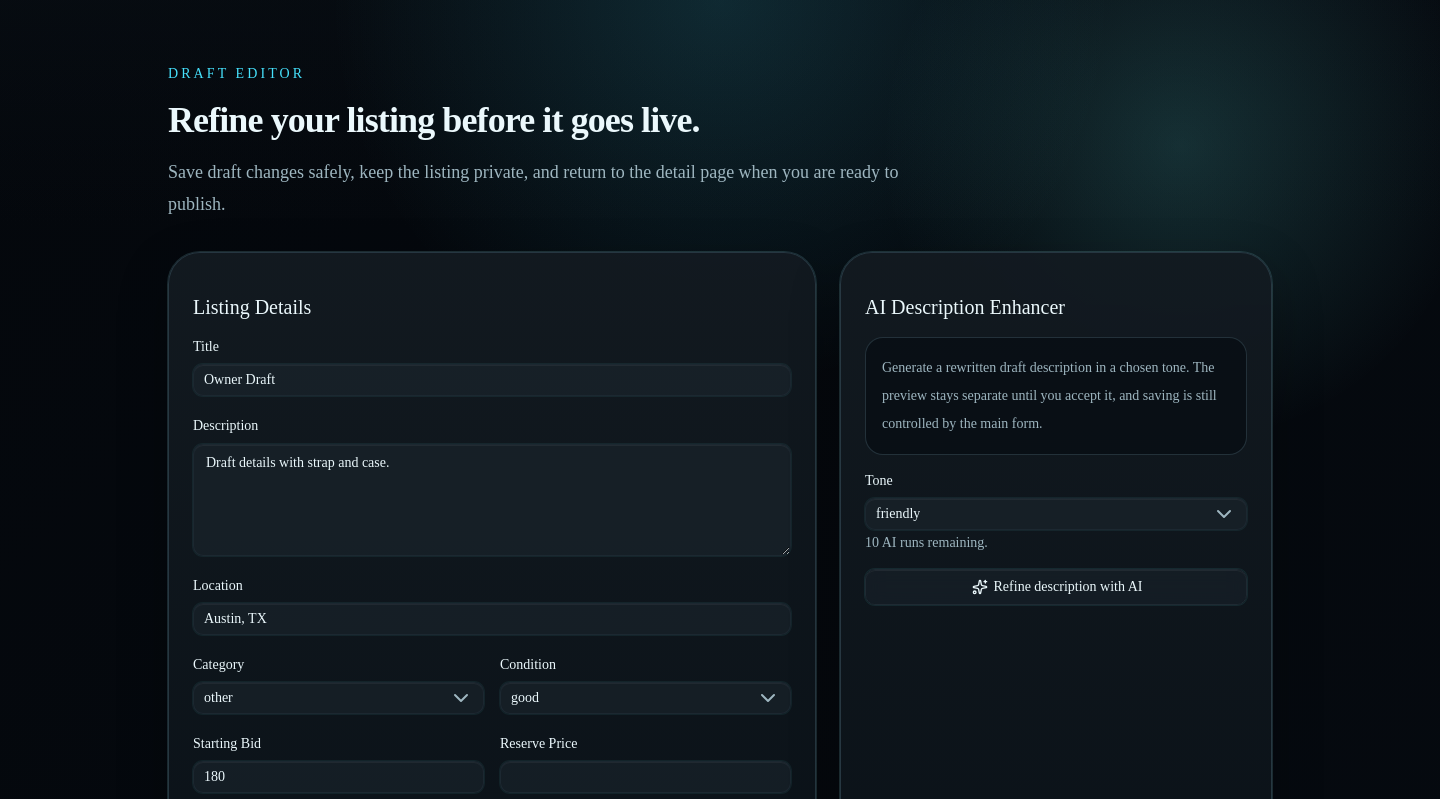
it: DraftListingEditor › shows form validation errors before submitting invalid values
Replace the text in the number field labelled "Starting Bid" with "300" at (338, 777), box [193, 761, 484, 793]
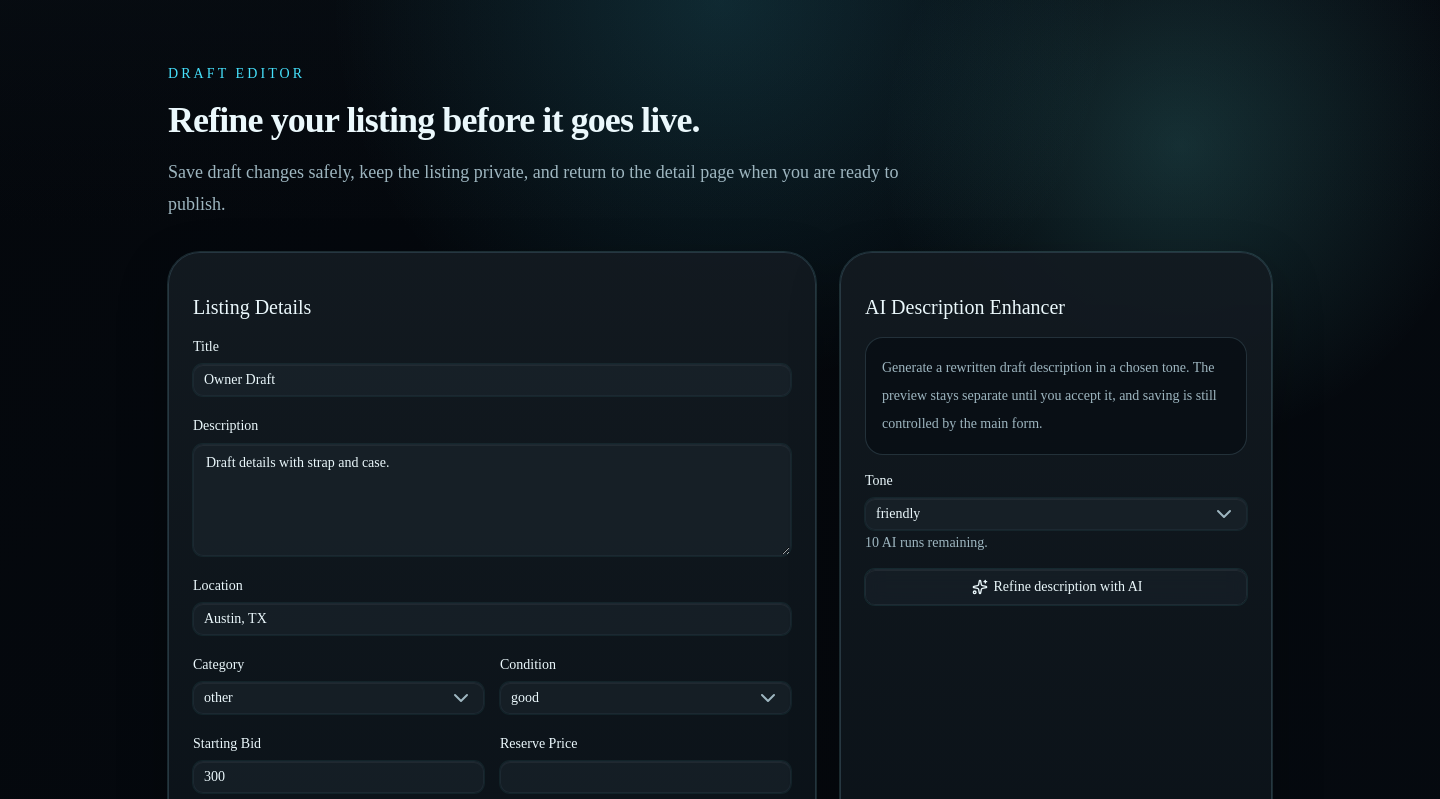
Type "200" into the number field labelled "Reserve Price".
click(646, 777); type("200")  # box [500, 761, 791, 793]
(page scrolled)
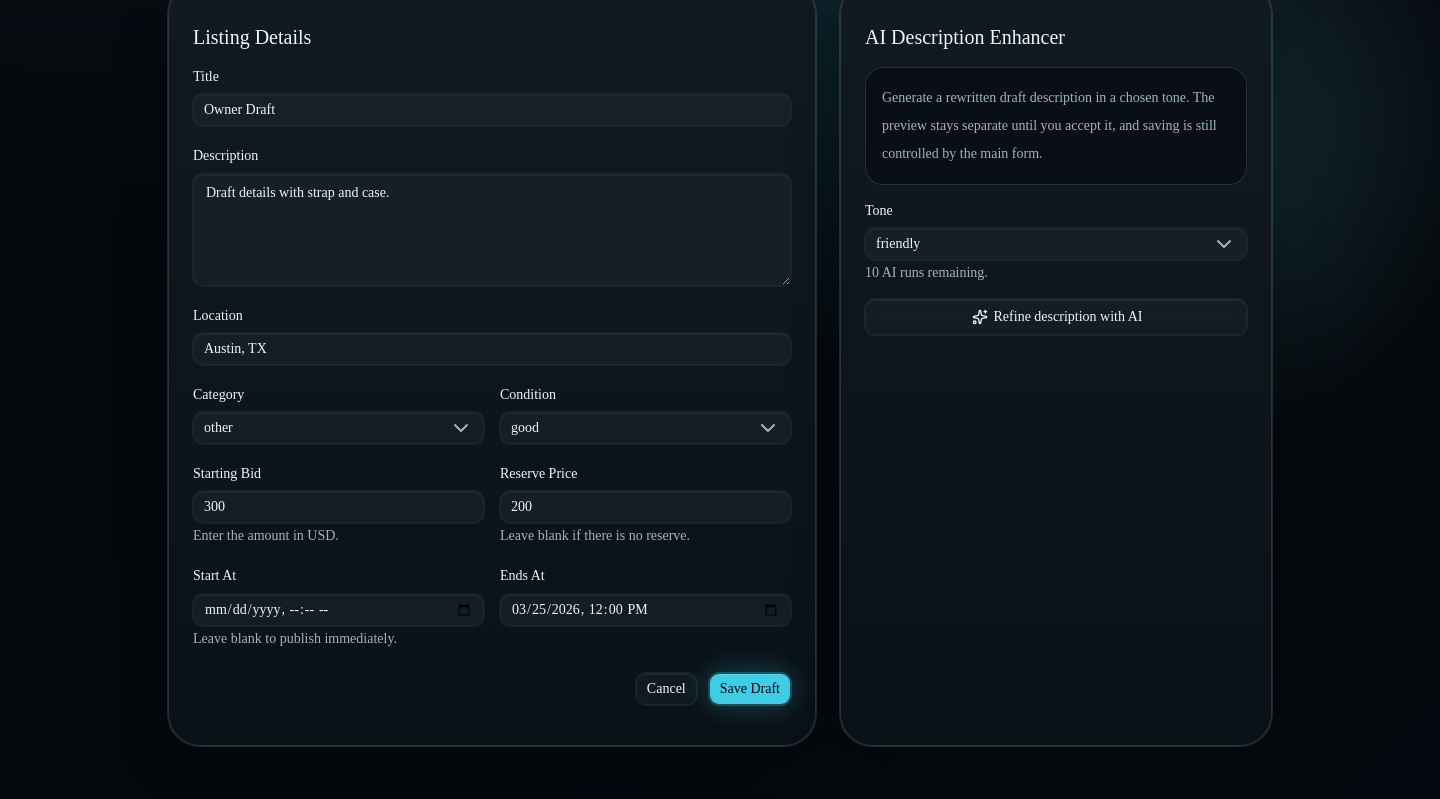
Click the button "Save Draft".
click(750, 688)  # box [709, 672, 791, 704]
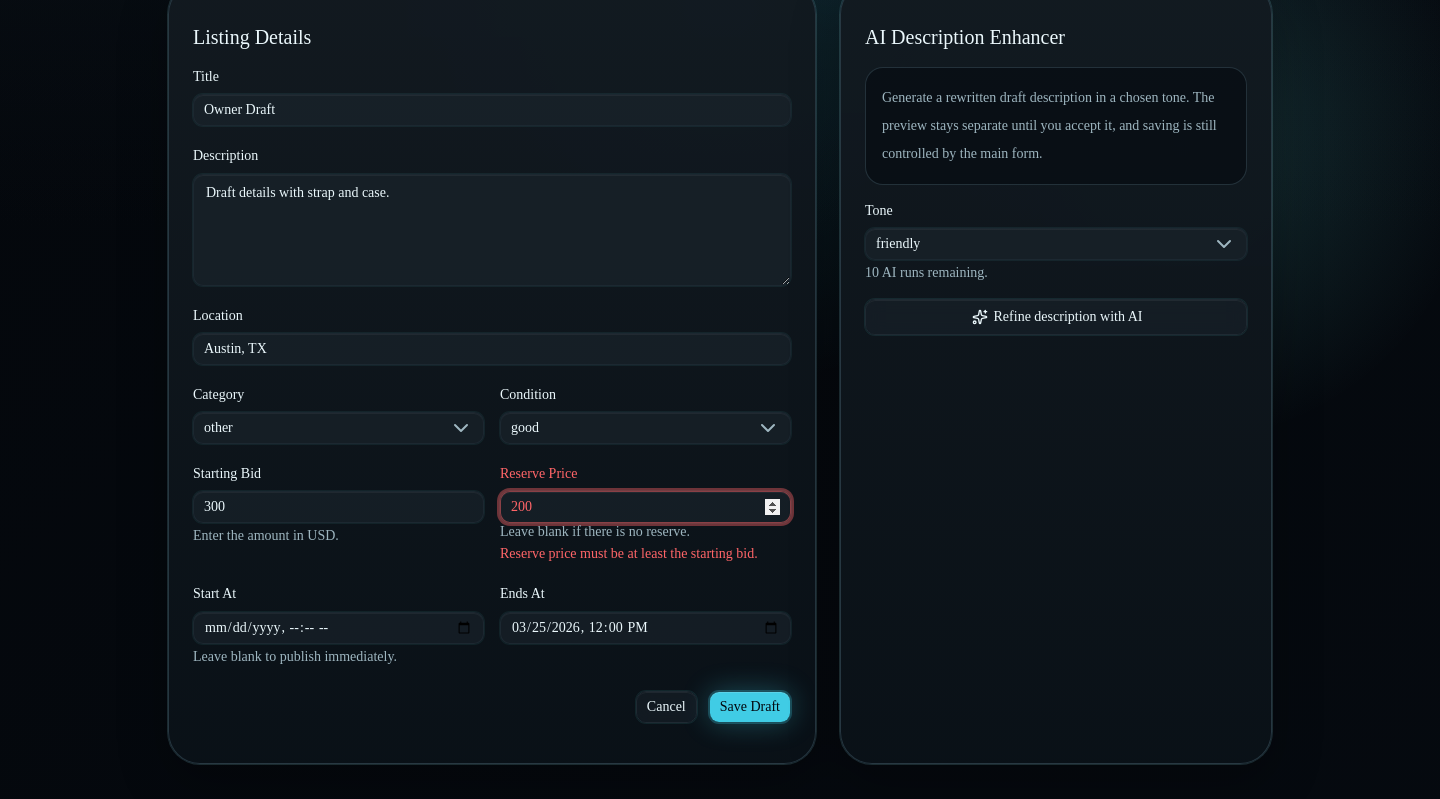
Result: the text "Reserve price must be at least the starting bid." is shown at [500, 544, 791, 564]
